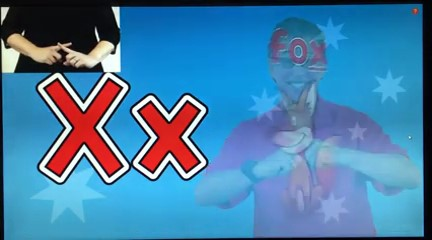X: (38, 36, 91, 70)
